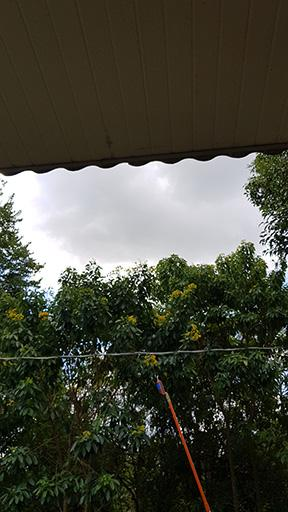Detector_Tensao_Contato: (152, 373, 169, 398)
Vara_Manobra: (163, 394, 209, 512)
